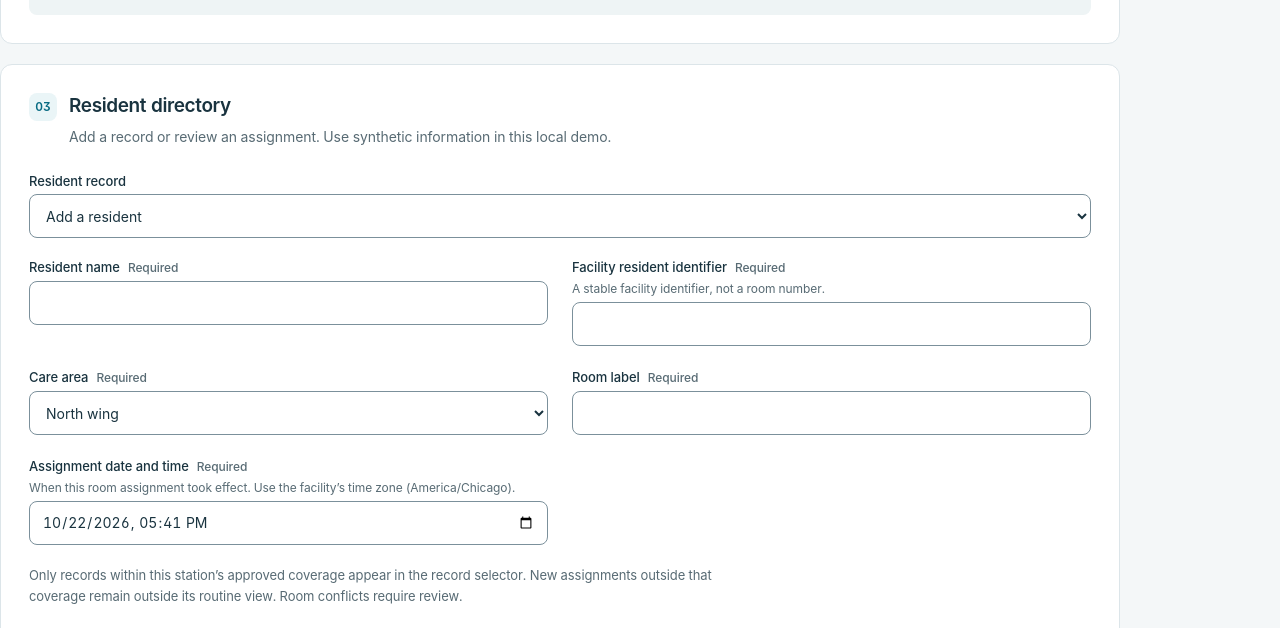
Test: workspace administration › saves a manually entered resident with an actual care-area identity
The image size is (1280, 628).
(page scrolled)
Type "Synthetic New Resident" into the field labelled "Resident name" at (288, 303), box [29,281,548,325]
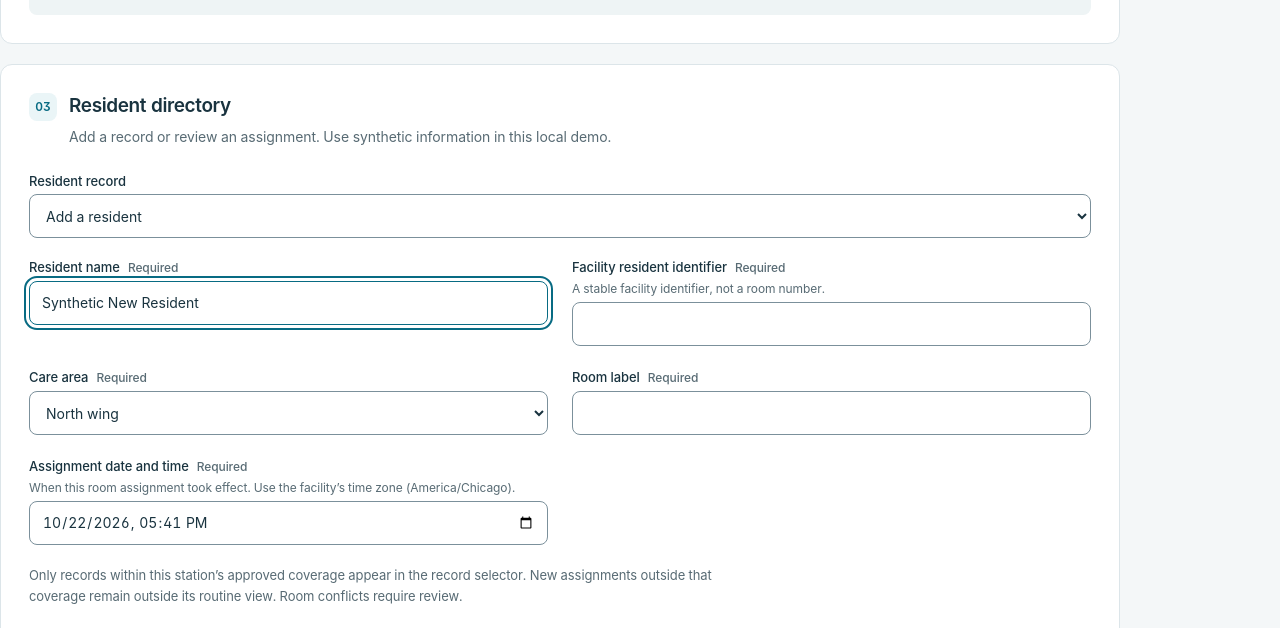
Type "DEMO-MANUAL" into the field labelled "Facility resident identifier" at (832, 324), box [572,302,1091,346]
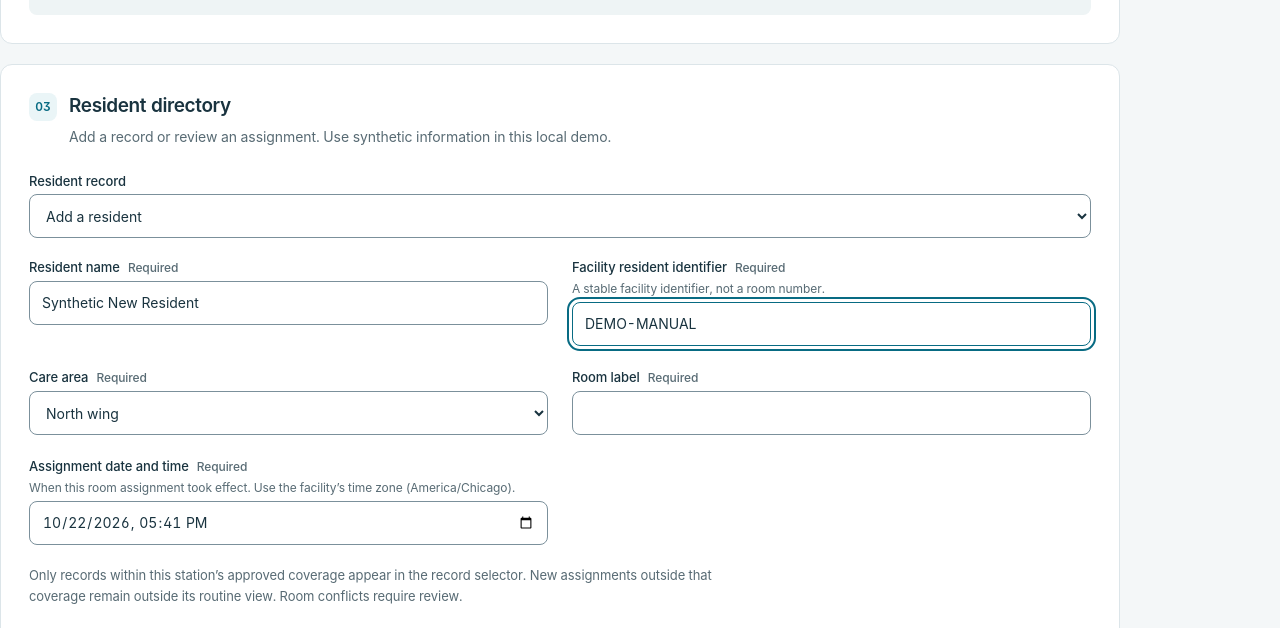
Type "990" into the field labelled "Room label" at (832, 413), box [572,391,1091,435]
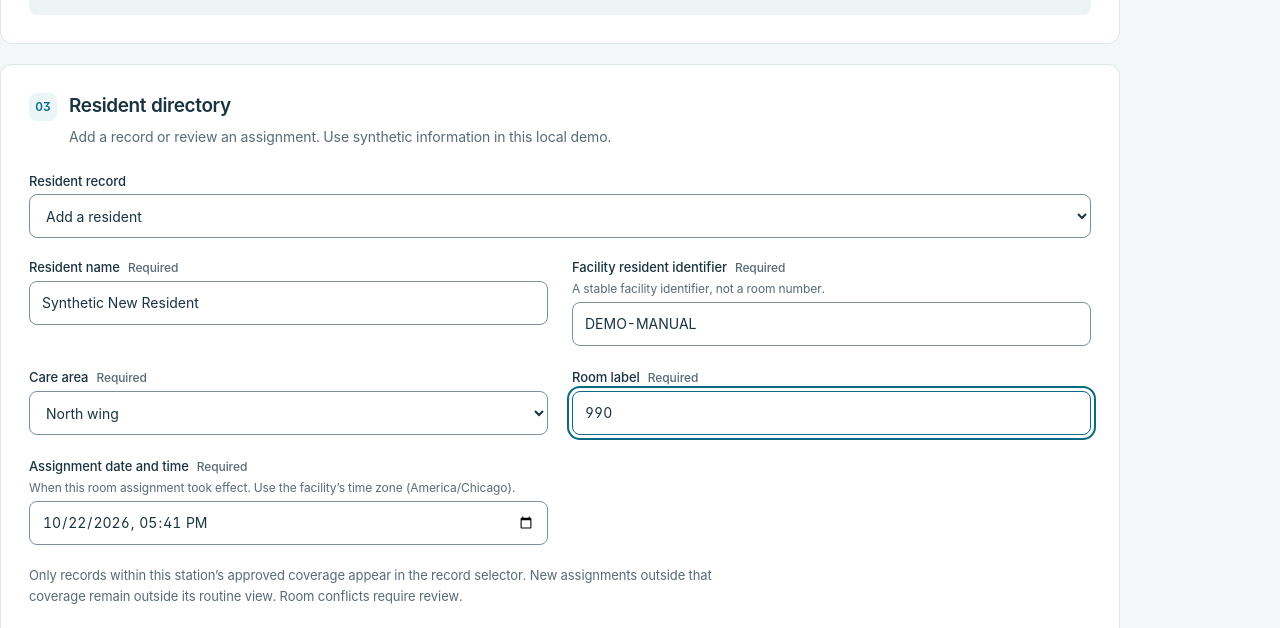
Replace the text in the field labelled "Assignment date and time" with "2026-10-21T09:00" at (288, 523), box [29,501,548,545]
(page scrolled)
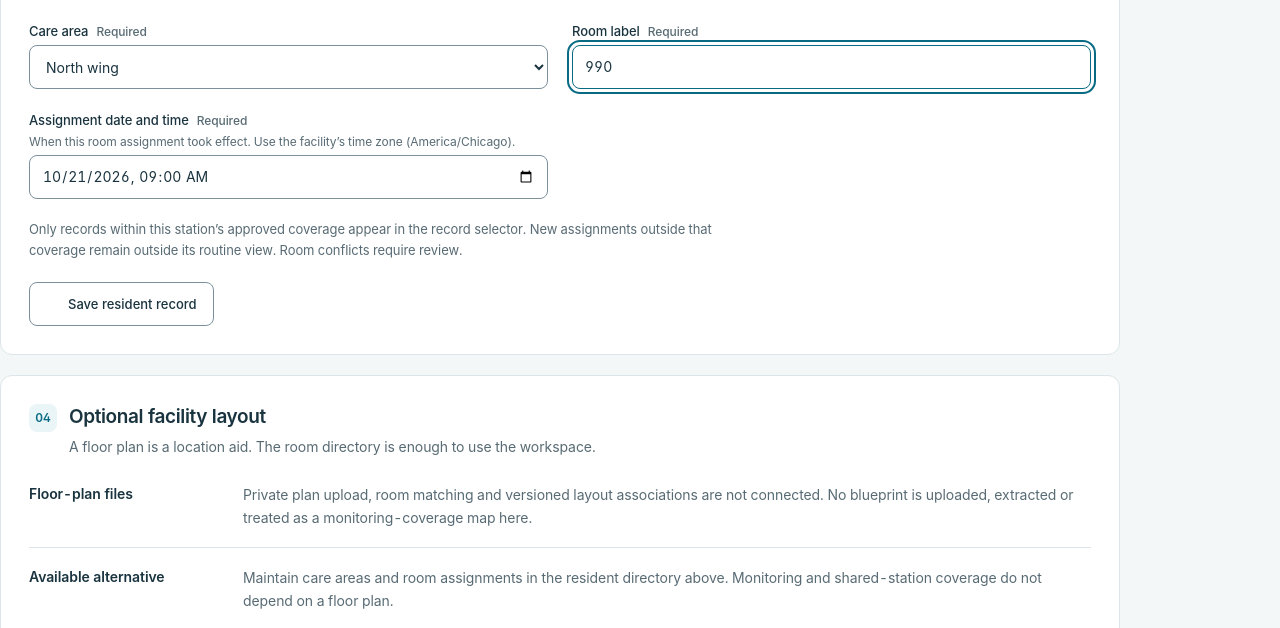
Click the button "Save resident record" at (121, 304), box [29,282,214,326]
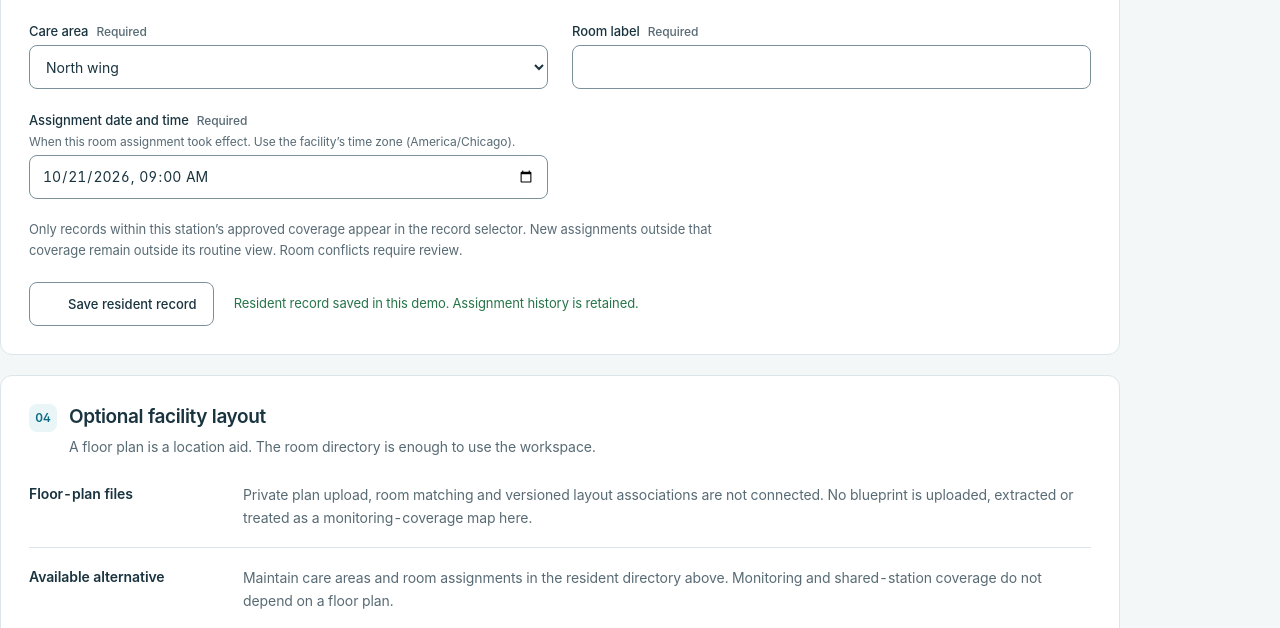
Expected: the text "Resident record saved in this demo. Assignment history is retained." is shown, [234,293,638,314]
